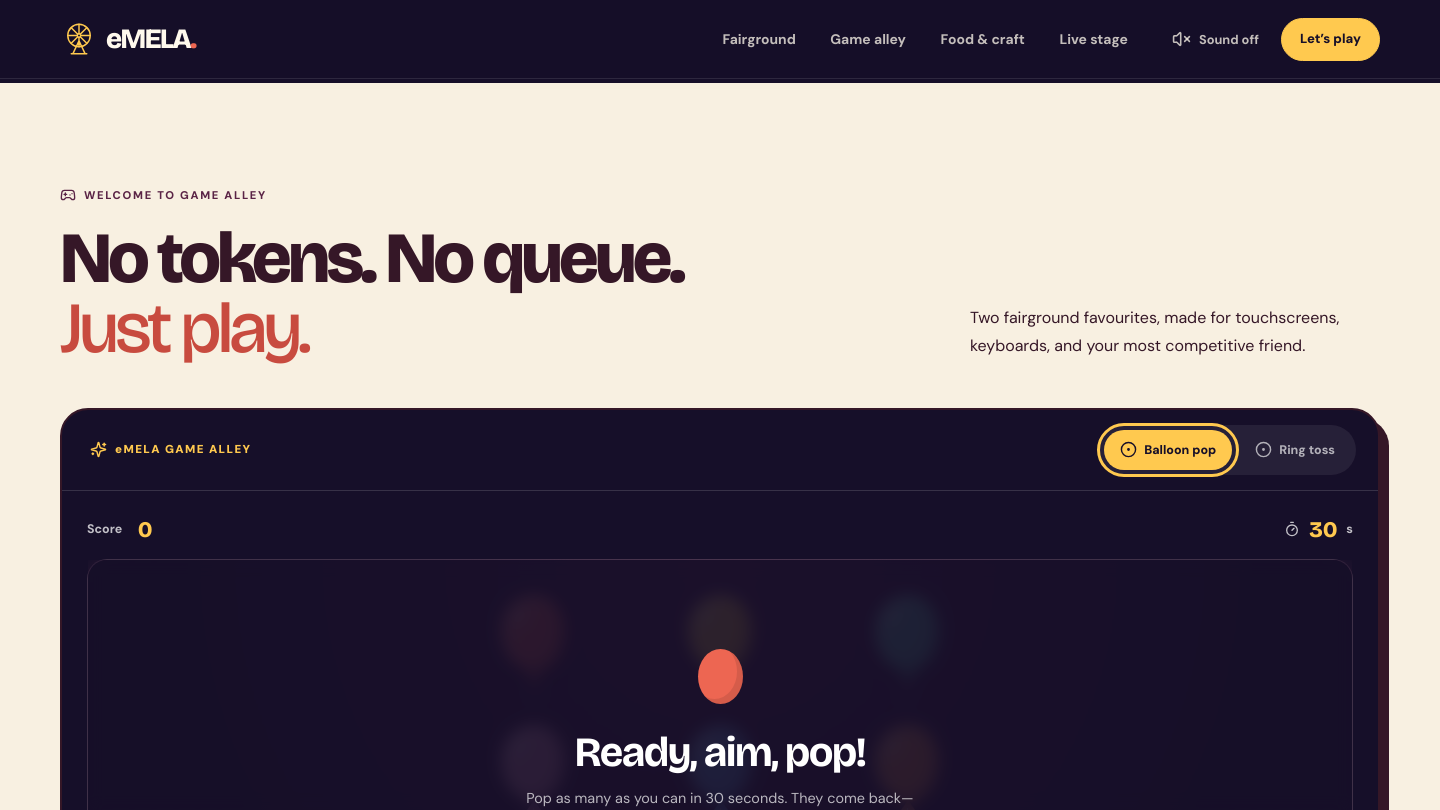
eMELA interactive fair › throws a ring and uses one of the available rings
The width and height of the screenshot is (1440, 810).
(page scrolled)
Press Arrowright
(page scrolled)
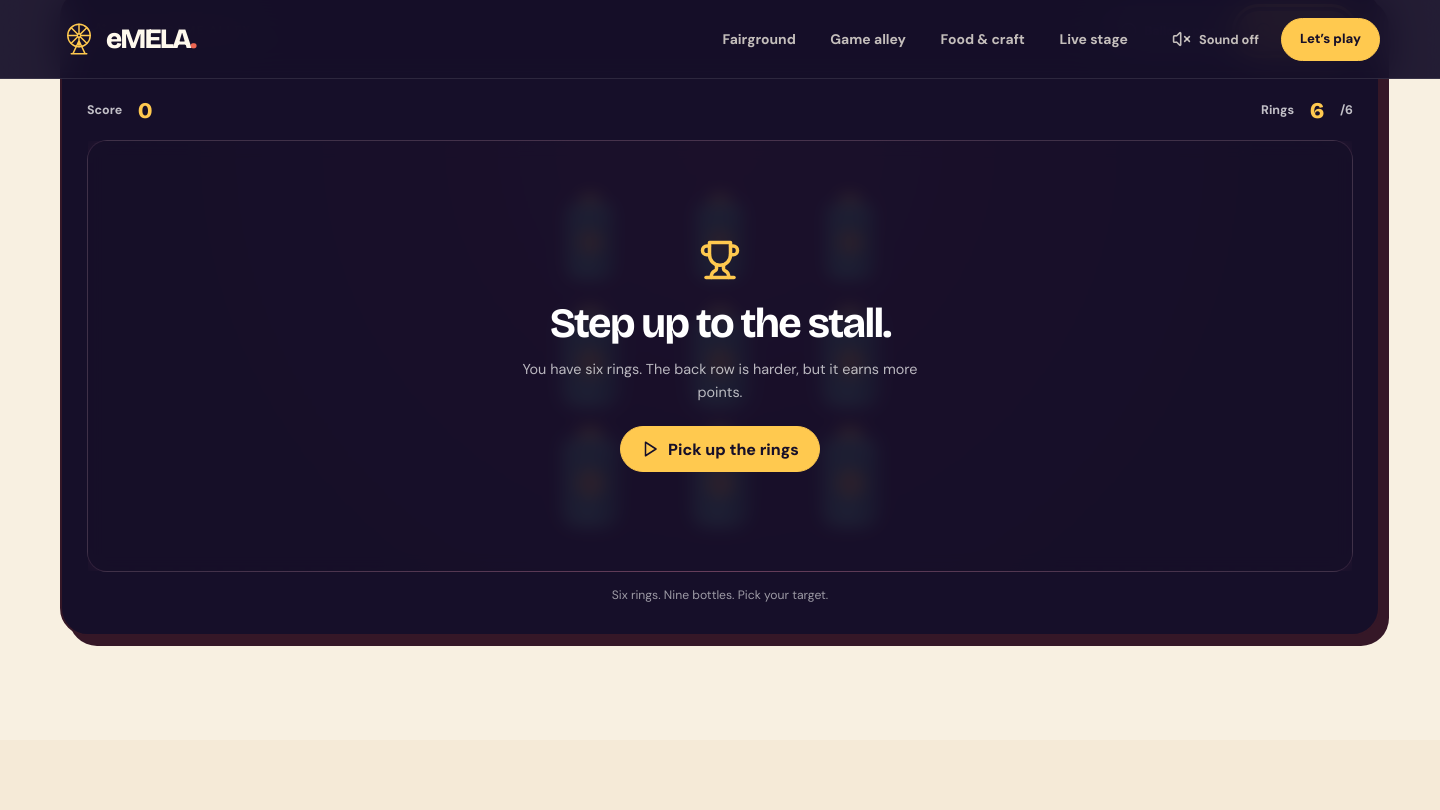
Click the button "Pick up the rings" at x=720, y=449, box [620,426,820,472]
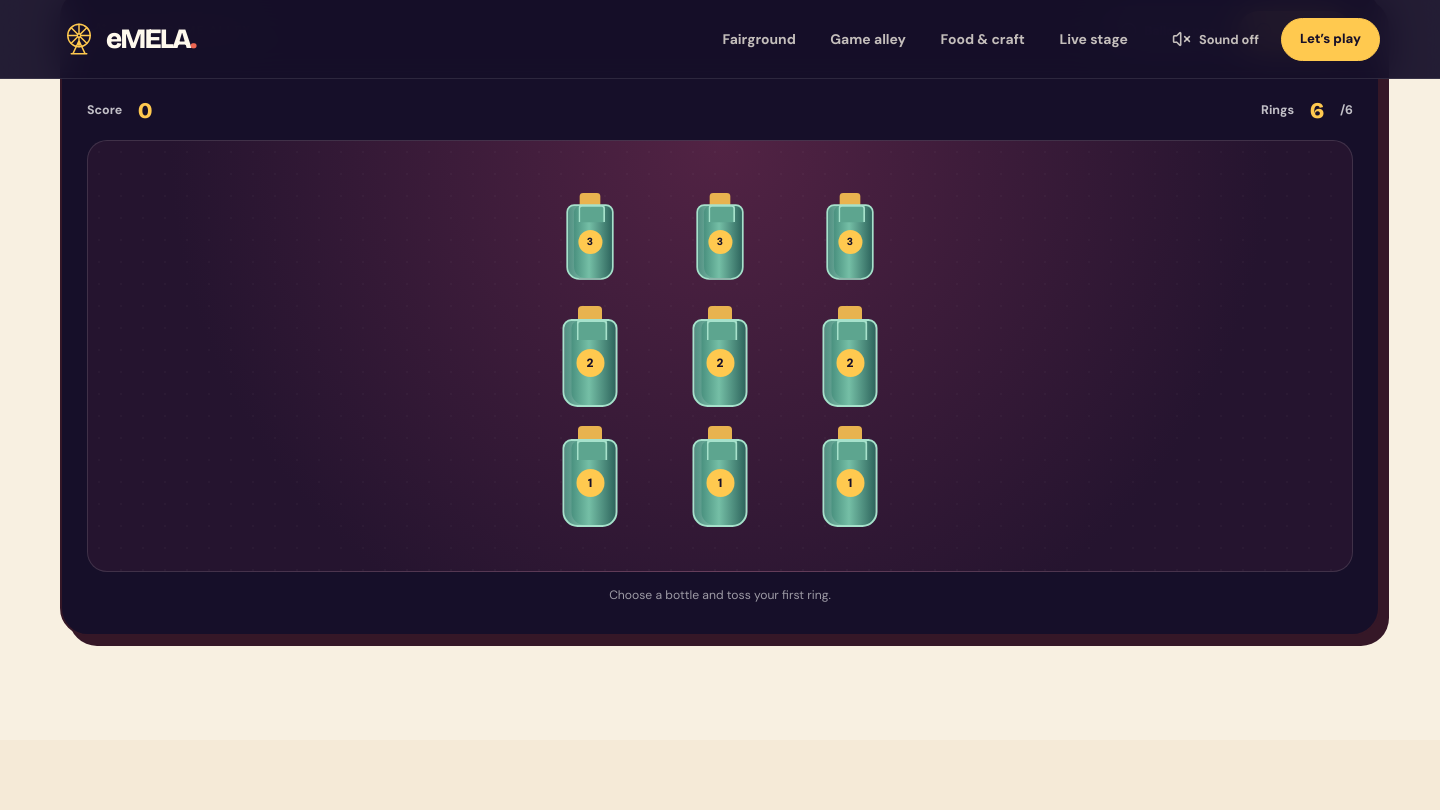
Click the button named "Throw a ring at bottle 9, worth 1 point" at x=850, y=476, box [785,422,915,530]
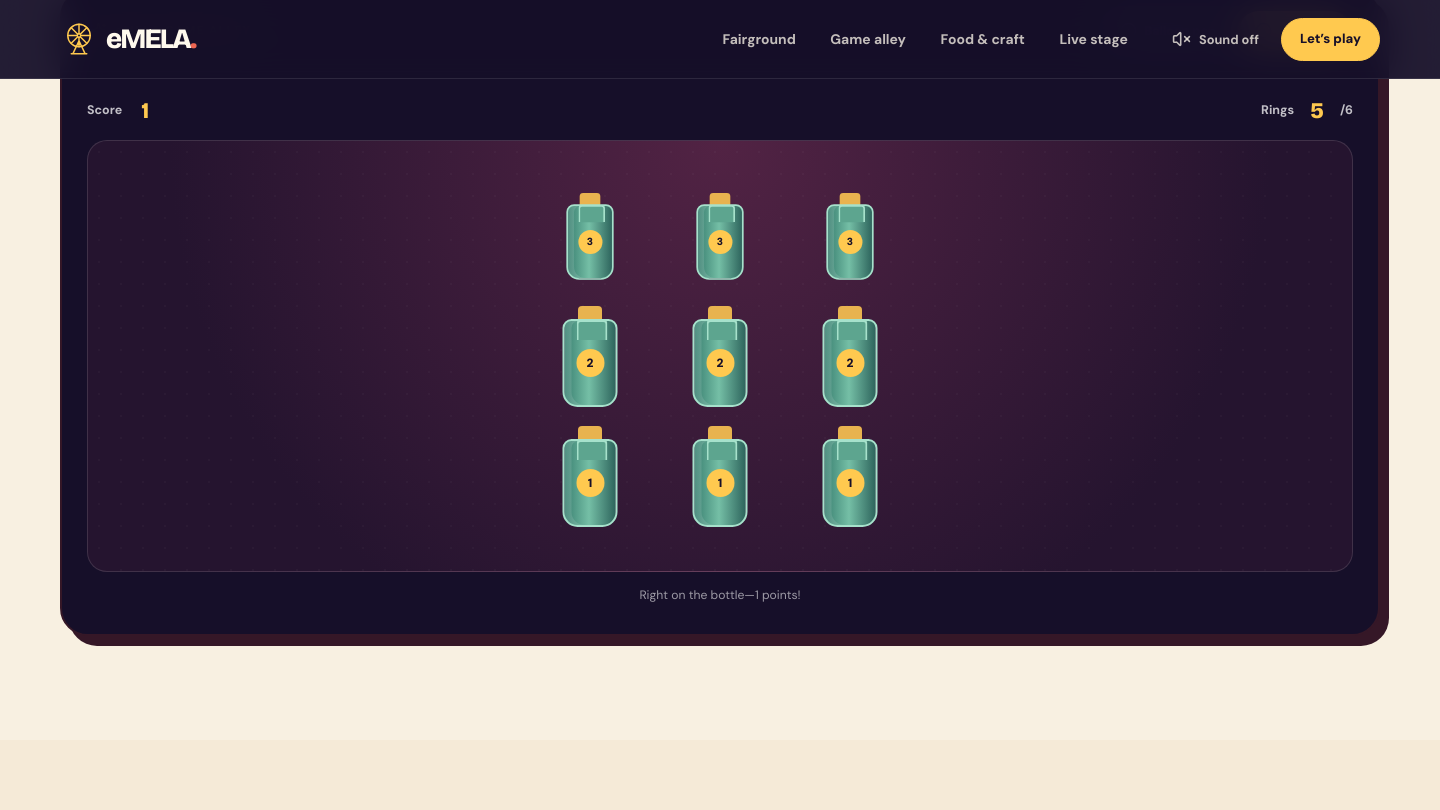
Now the text named "Rings remaining" reads "5", box [1310,97,1324,124]
